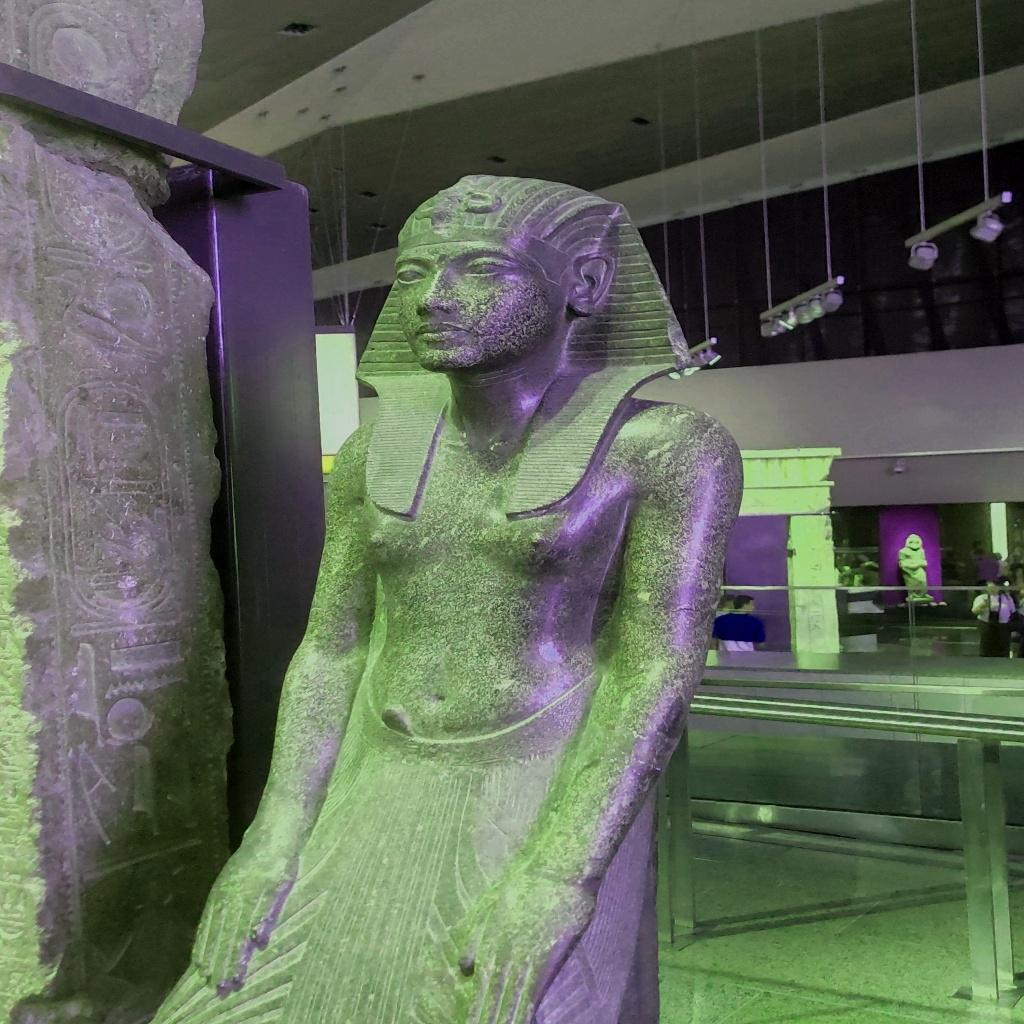Granite Statue of Tutankhamun: (150, 169, 748, 1021)
